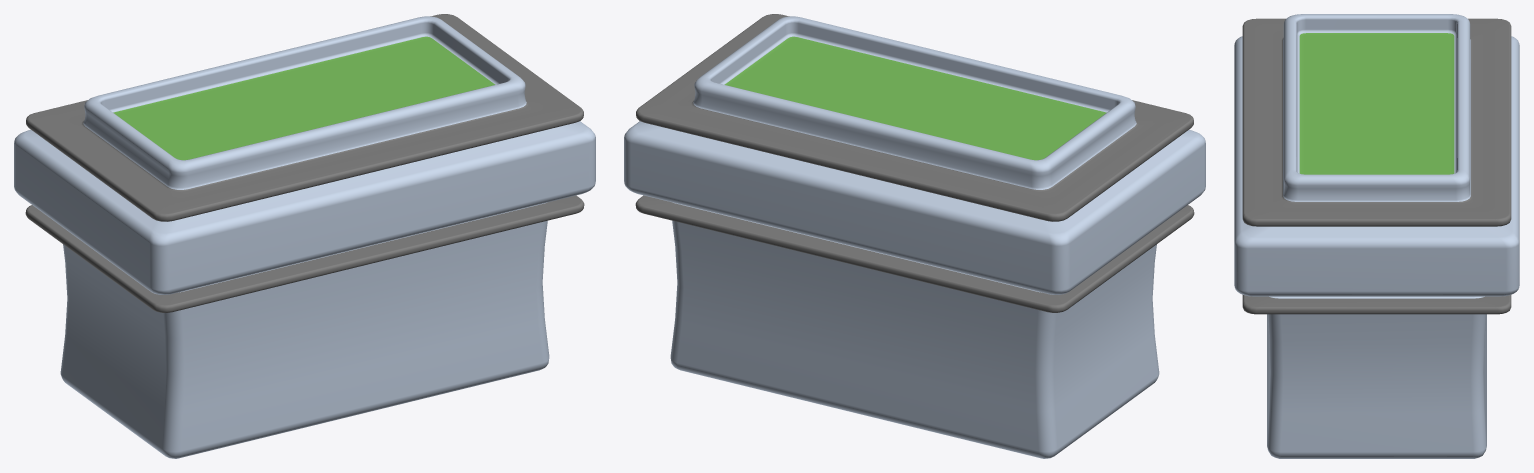
Rendered from SM_Building_05_Part_01.fbx.
3 renders of one model, left to right at view 1: azimuth 30°, elevation 25°; view 2: azimuth 150°, elevation 25°; view 3: azimuth 270°, elevation 25°, orthographic. The views are drawn at different scales.
Visible parts, largest first — view 1: SM_Building_05_Part_01; view 2: SM_Building_05_Part_01; view 3: SM_Building_05_Part_01.
Boxes of the visible parts, x1,y1,x2,y2 form: SM_Building_05_Part_01: (14, 14, 595, 458); SM_Building_05_Part_01: (624, 14, 1205, 458); SM_Building_05_Part_01: (1234, 14, 1519, 458).
Bounding box in the file's own units: 5066 × 3127 × 2920.
